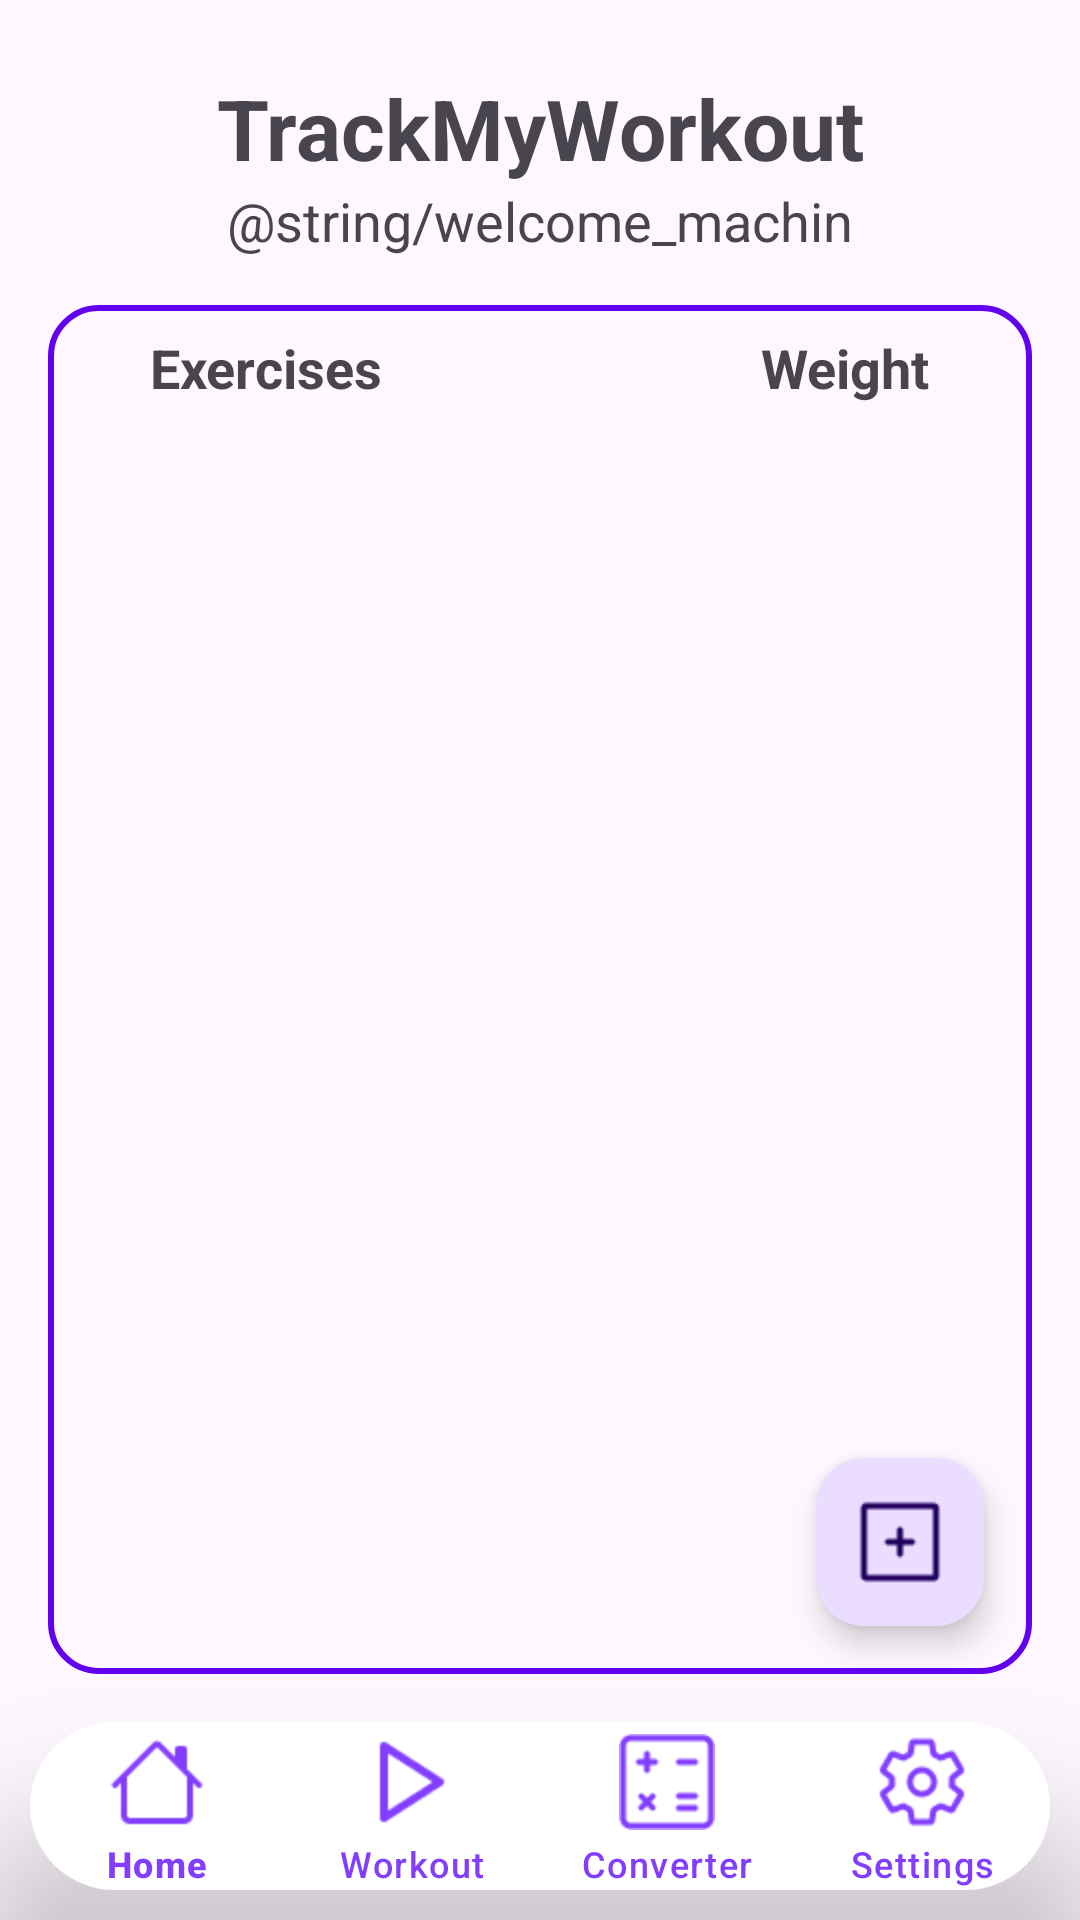

Point at icon controls on the screen. Image size 1080×1920, points as point (x, y).
Add a new exercise: point (900, 1542)
